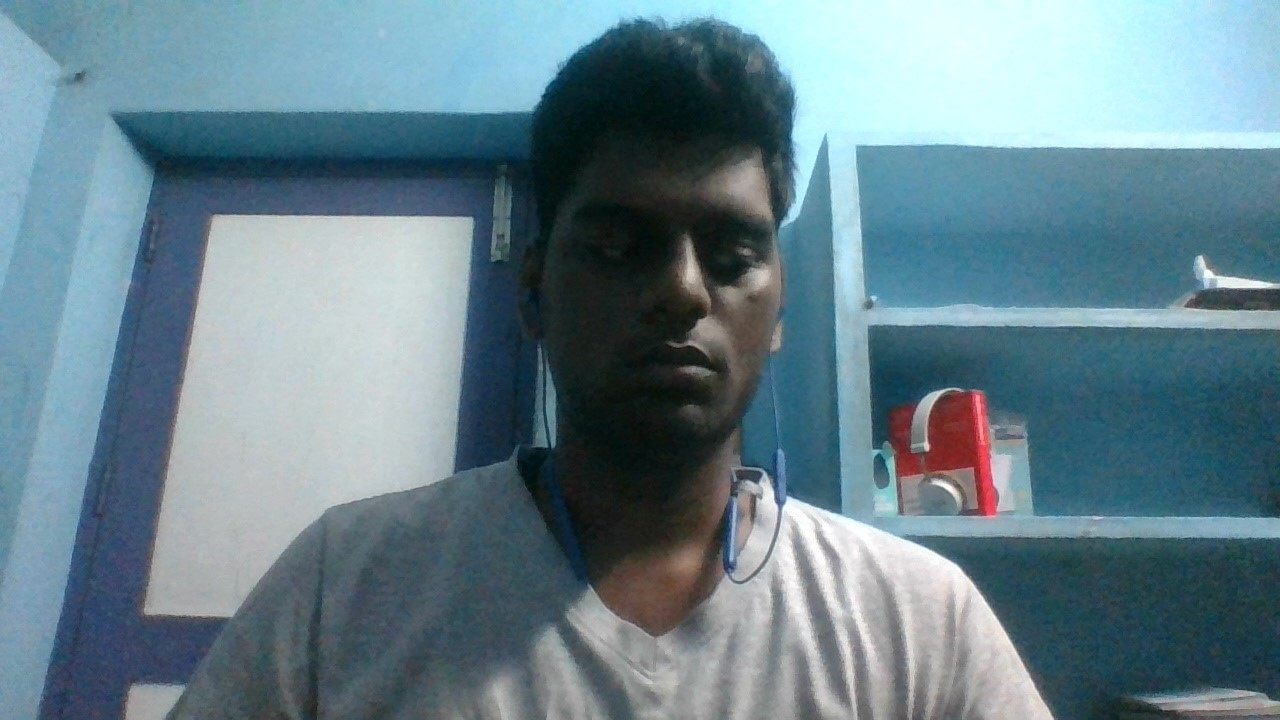person: (135, 7, 1048, 720)
